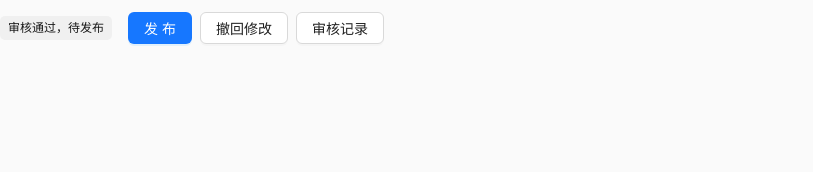
Test case: keeps publication after an older approved-state refresh arrives
Click the button "发 布": click(160, 28) [128,12,192,44]
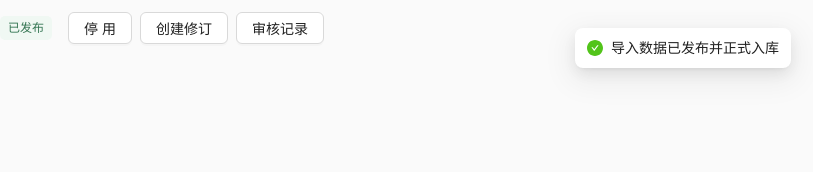
Now the text "已发布" is shown, box [0,16,52,40]
